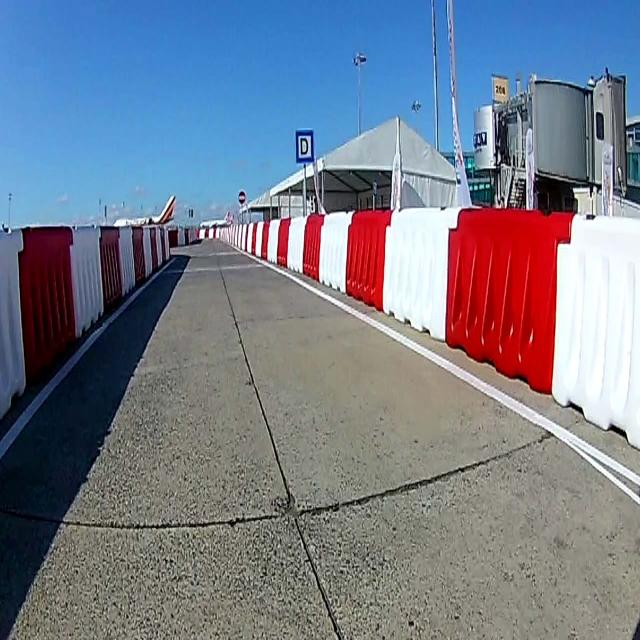durak: (294, 129, 314, 163)
girisyok: (238, 190, 246, 205)
